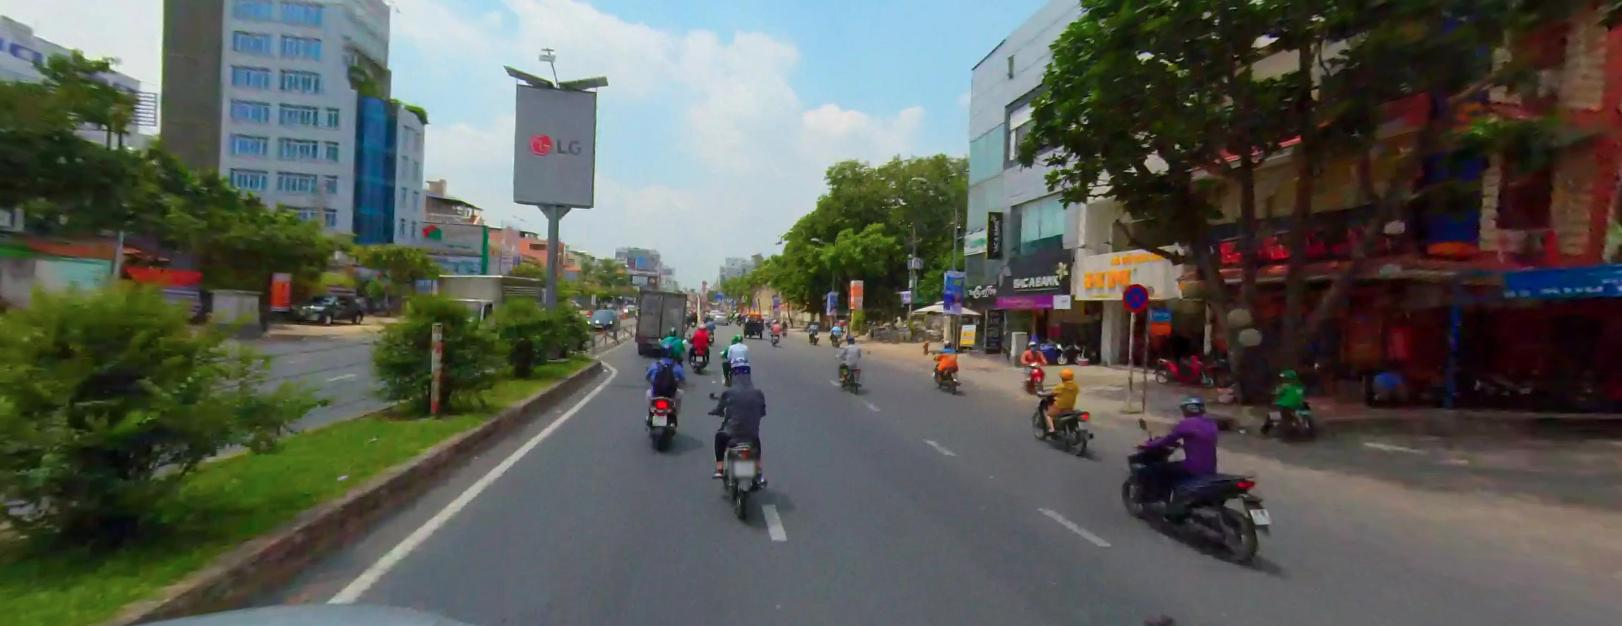Cam dung va do: (1121, 282, 1149, 310)
